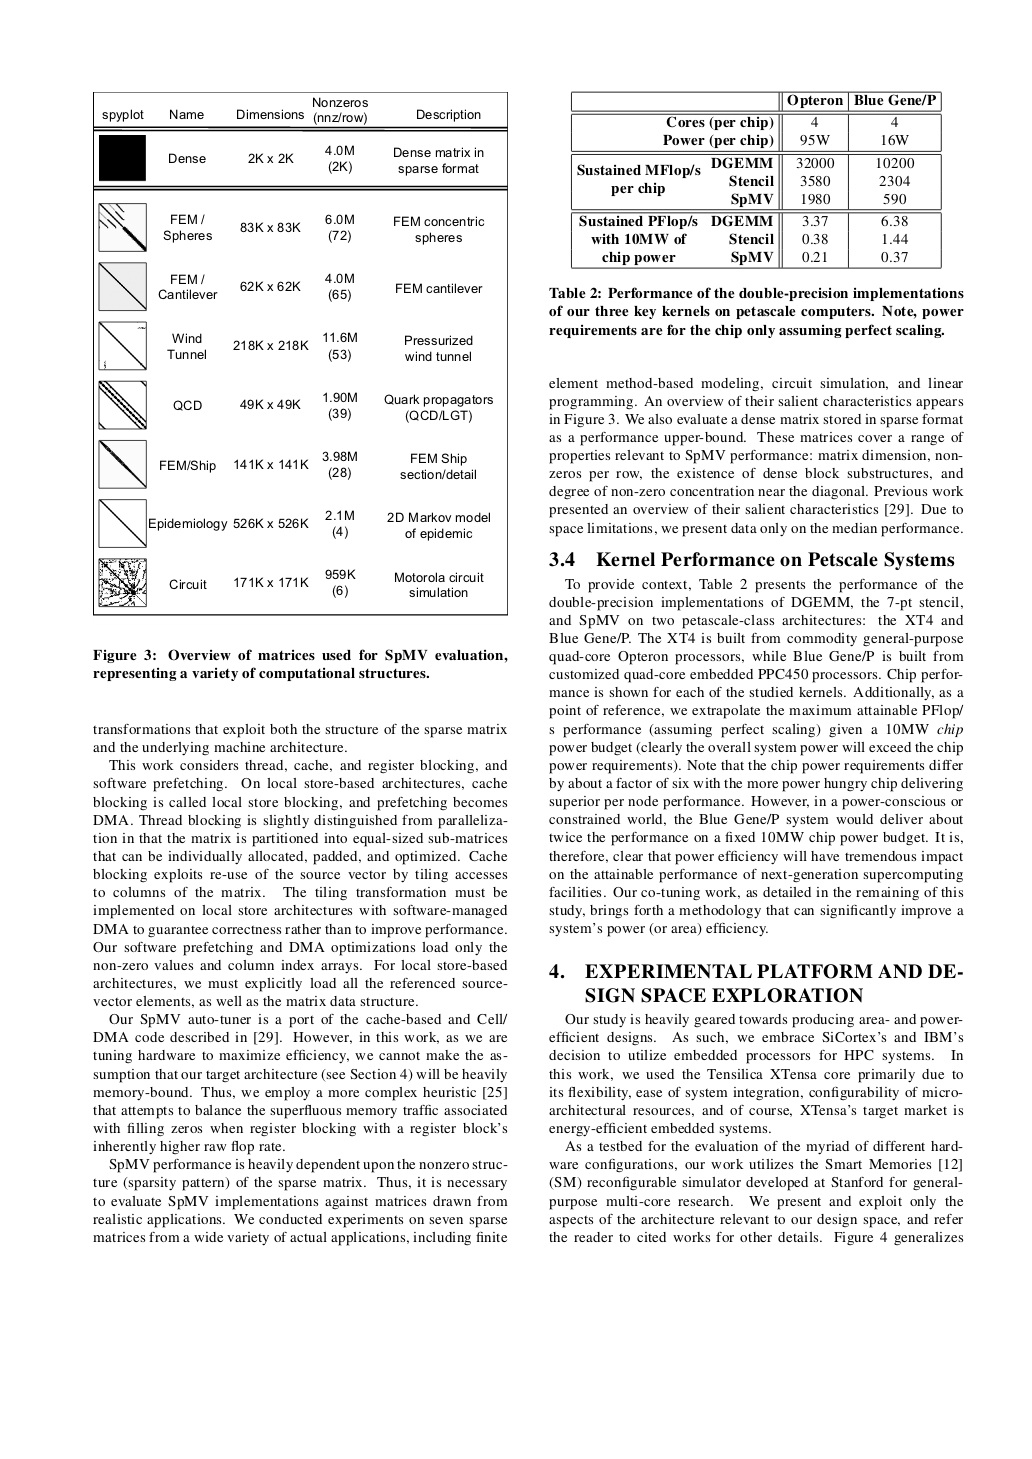Table: (93, 92, 507, 616), (571, 90, 942, 269)
